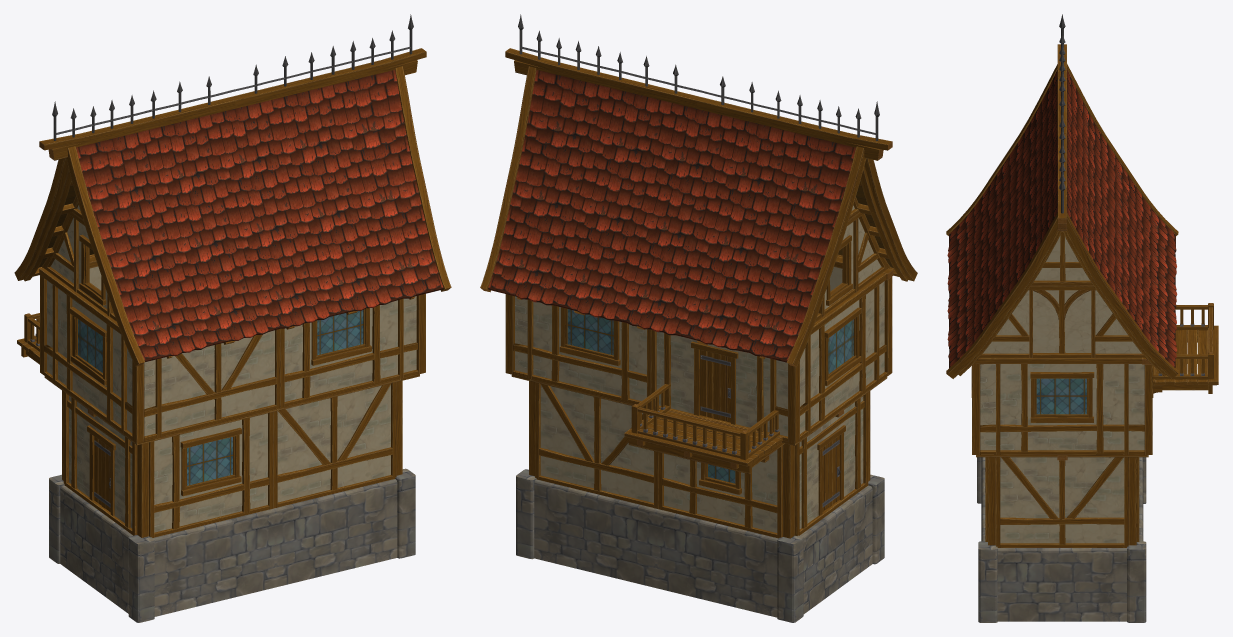
File: house_2x1_tall_03_merged_(1).gltf
3 renders of one model, left to right at view 1: azimuth 30°, elevation 25°; view 2: azimuth 150°, elevation 25°; view 3: azimuth 270°, elevation 25°, orthographic. The views are drawn at different scales.
Visible parts, largest first — view 1: House_2x1_Tall_03_Merged (1); view 2: House_2x1_Tall_03_Merged (1); view 3: House_2x1_Tall_03_Merged (1).
Part boxes in pixels (x1,y1,x2,y2): House_2x1_Tall_03_Merged (1): [14, 14, 451, 622]; House_2x1_Tall_03_Merged (1): [480, 14, 917, 622]; House_2x1_Tall_03_Merged (1): [946, 14, 1218, 622].
Size of the model in its own units: 15.52 by 19.32 by 10.27.
9 materials, 9 textured.
